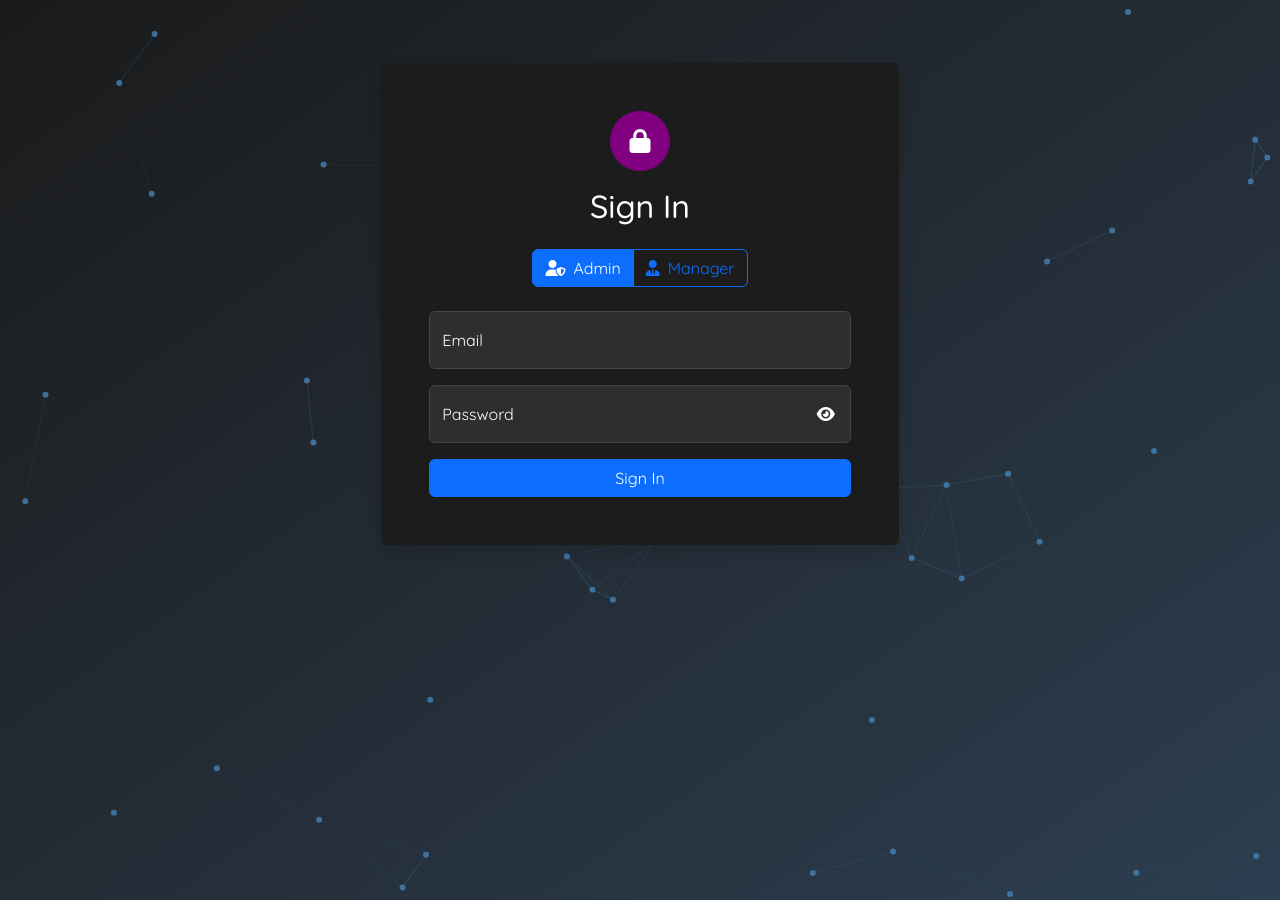
Test: SignInForm integration tests › handles network error gracefully
The image size is (1280, 900).
Type "test@example.com" into the field with test id "email-input". click: (640, 340)
box: left=429, top=311, right=851, bottom=369
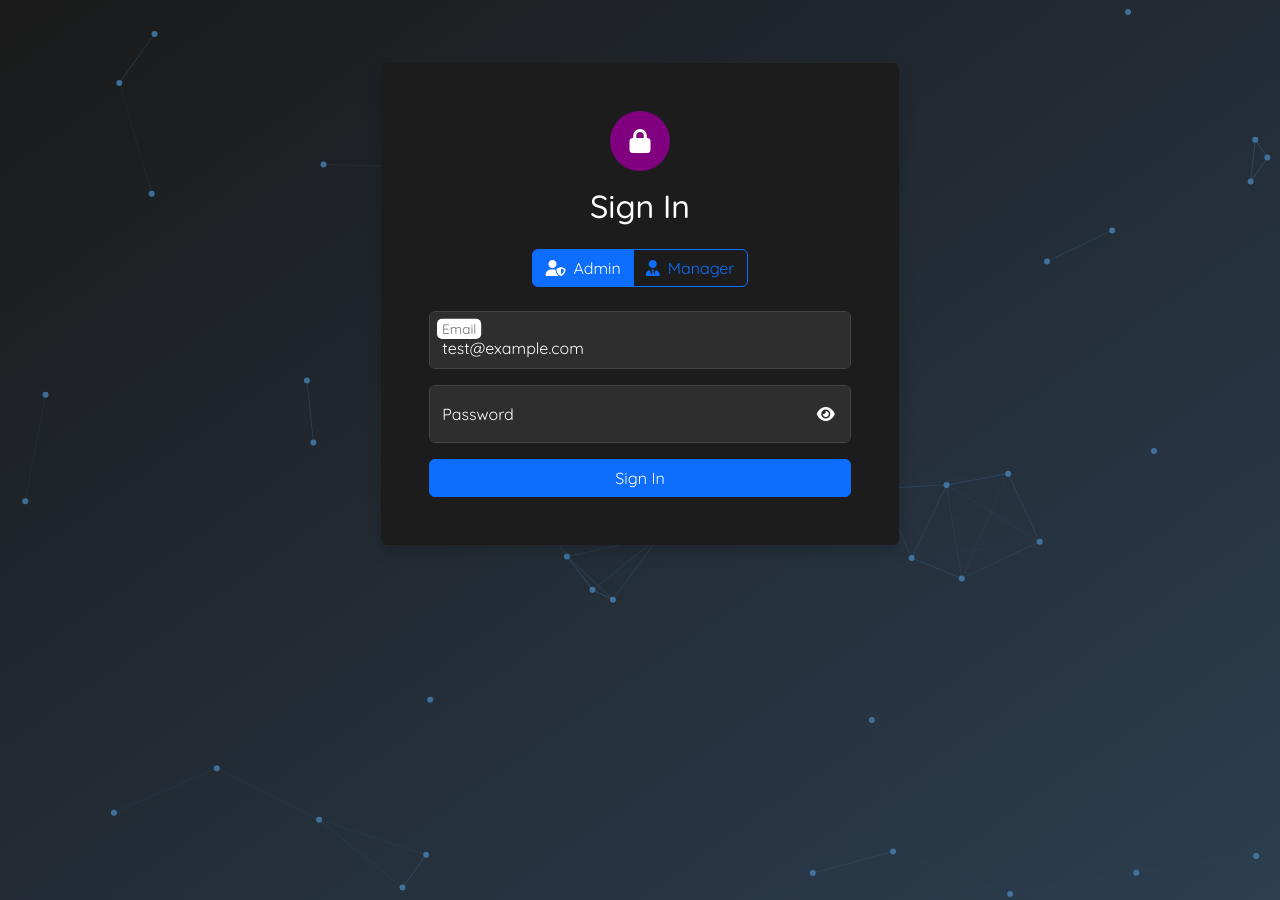
Type "password" into the password field with test id "password-input". click: (640, 414)
box: left=429, top=385, right=851, bottom=443
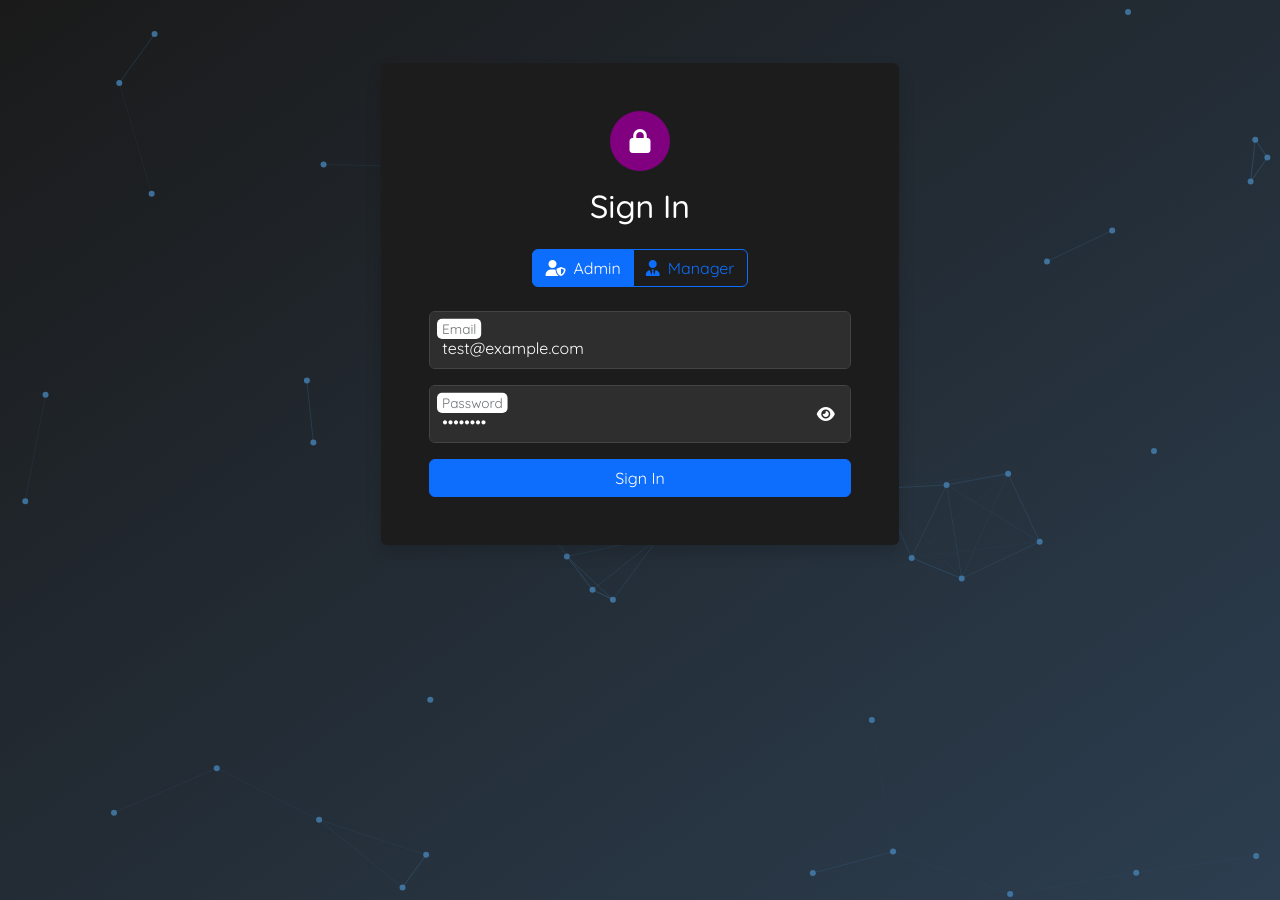
Click the button with test id "sign-in-button". click: click(640, 478)
box: left=429, top=459, right=851, bottom=497
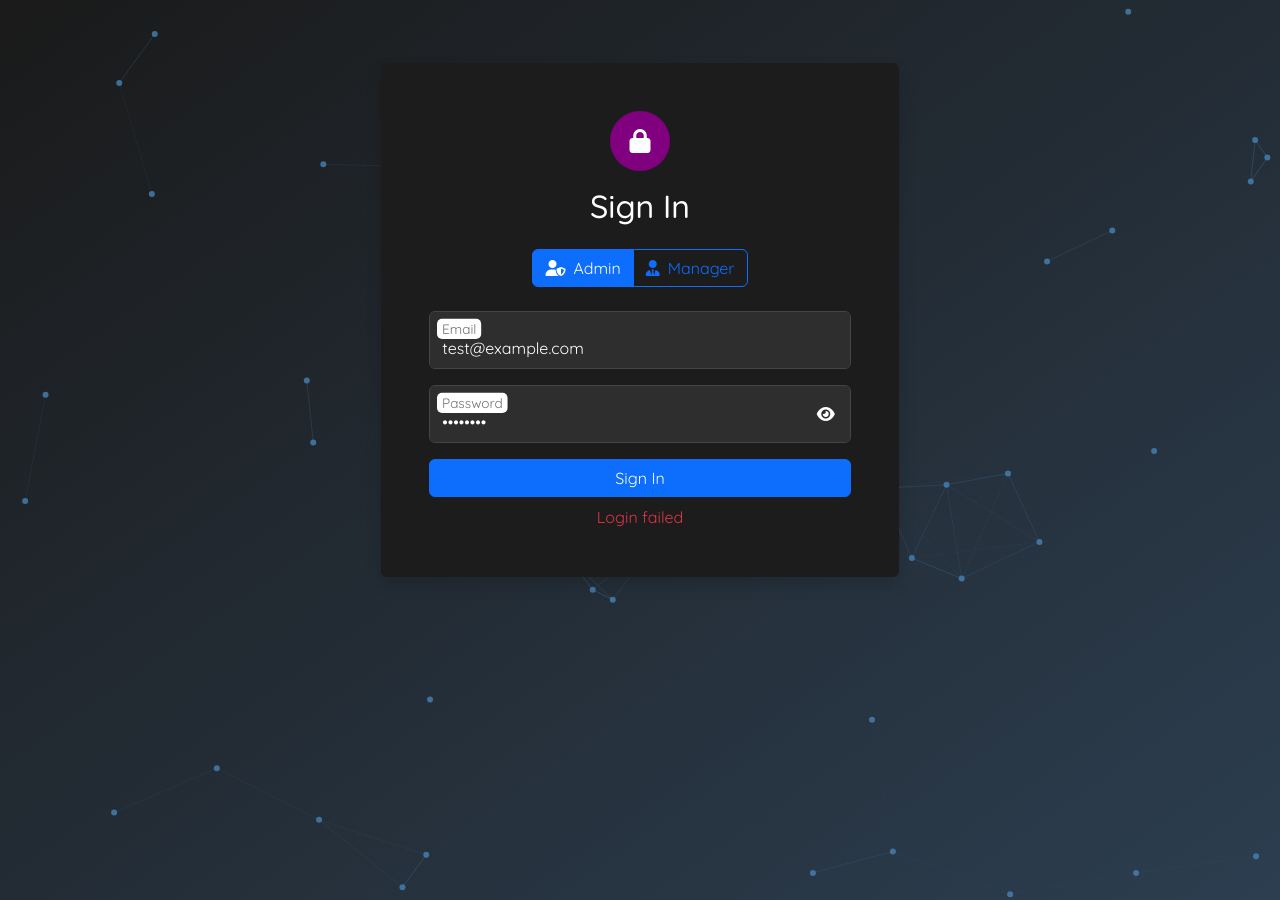
Expected: the text "Login failed" is shown, left=597, top=507, right=683, bottom=527
Expected: the text with test id "server-error" reads "Login failed", left=597, top=507, right=683, bottom=527
